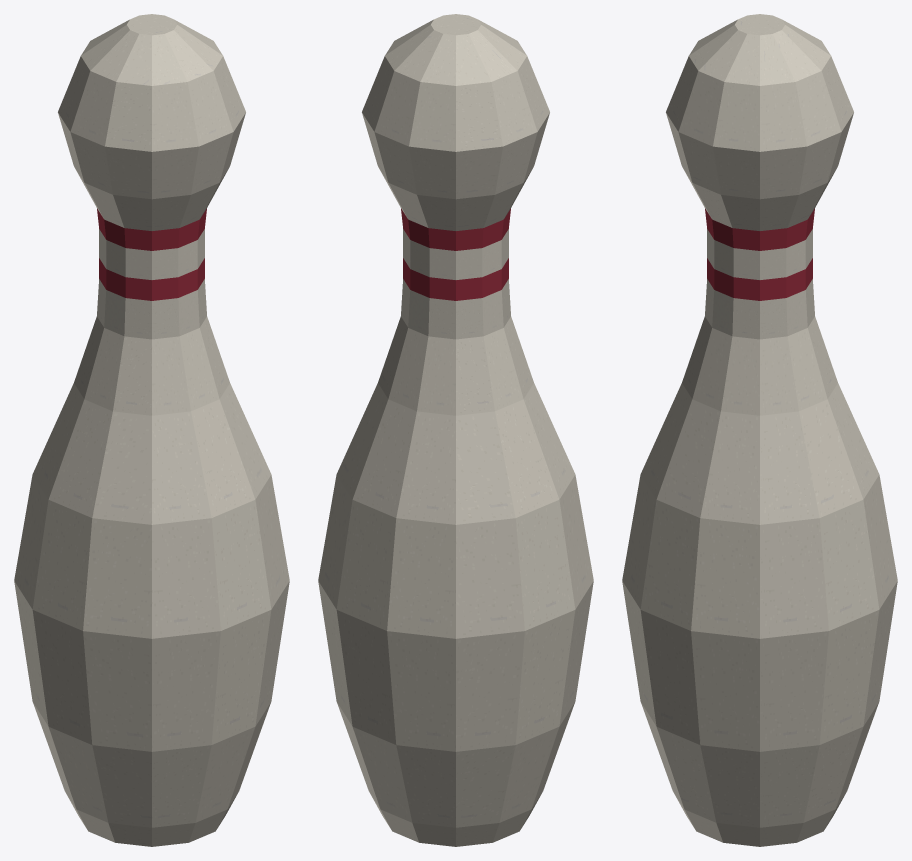
Rendered from bowling_pin.glb.
The picture shows the model from 3 angles, left to right: view 1: azimuth 30°, elevation 25°; view 2: azimuth 150°, elevation 25°; view 3: azimuth 270°, elevation 25°; orthographic projection.
Visible parts, largest first — view 1: arcade_bowling_pin; view 2: arcade_bowling_pin; view 3: arcade_bowling_pin.
Part boxes in pixels (bbox=[...]): arcade_bowling_pin: bbox=[14, 14, 289, 846]; arcade_bowling_pin: bbox=[318, 14, 593, 846]; arcade_bowling_pin: bbox=[622, 14, 897, 846].
Size of the model in its own units: 0.12 by 0.38 by 0.12.
Materials: 1 (1 with a texture image).
